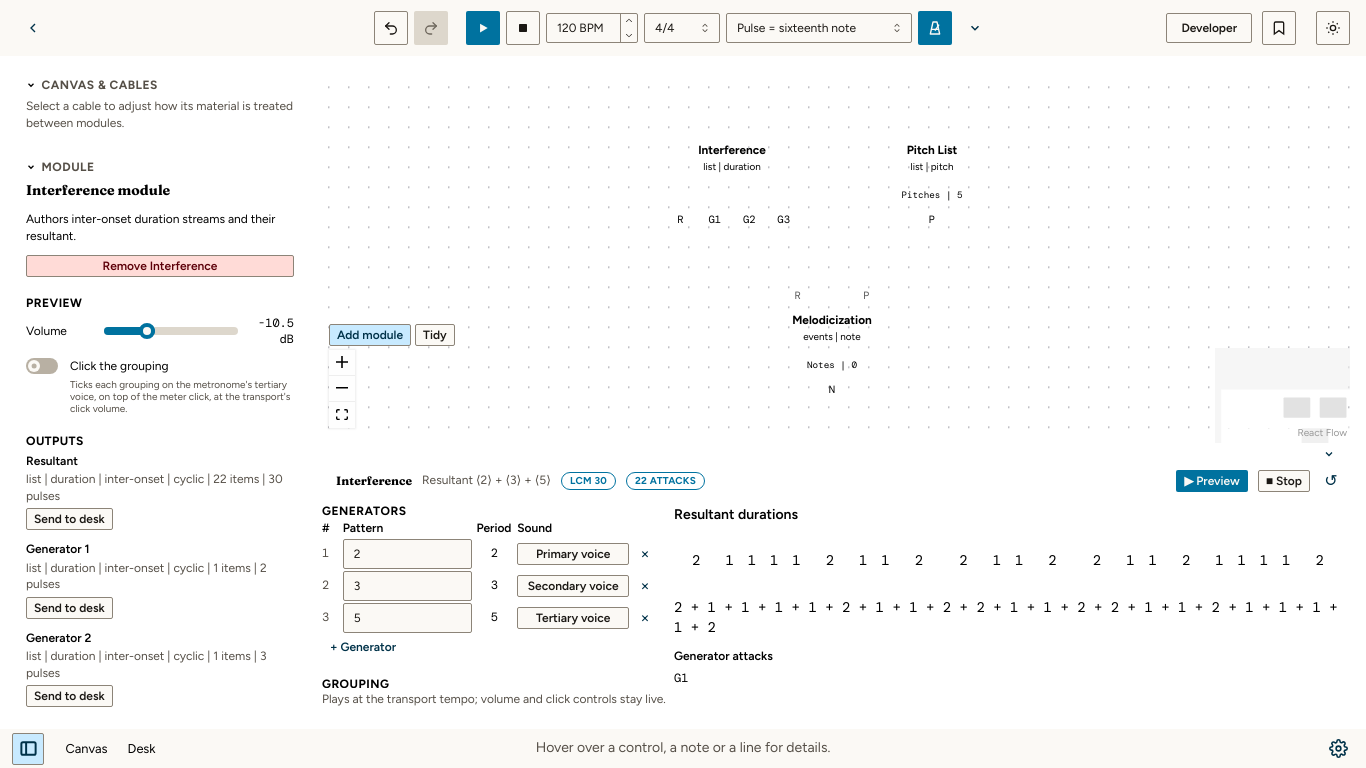
Test: CompositionWorkbenchPage › uses the patch canvas as the composition navigator
The image size is (1366, 768).
Expected: the button "Note events" is not shown
Expected: the button "Melodicization events | note Notes | 0" is shown, top-left (758, 304), bottom-right (906, 381)
Click the button "Pitch List list | pitch Pitches | 5": coordinates (932, 172) top-left (858, 134), bottom-right (1006, 211)
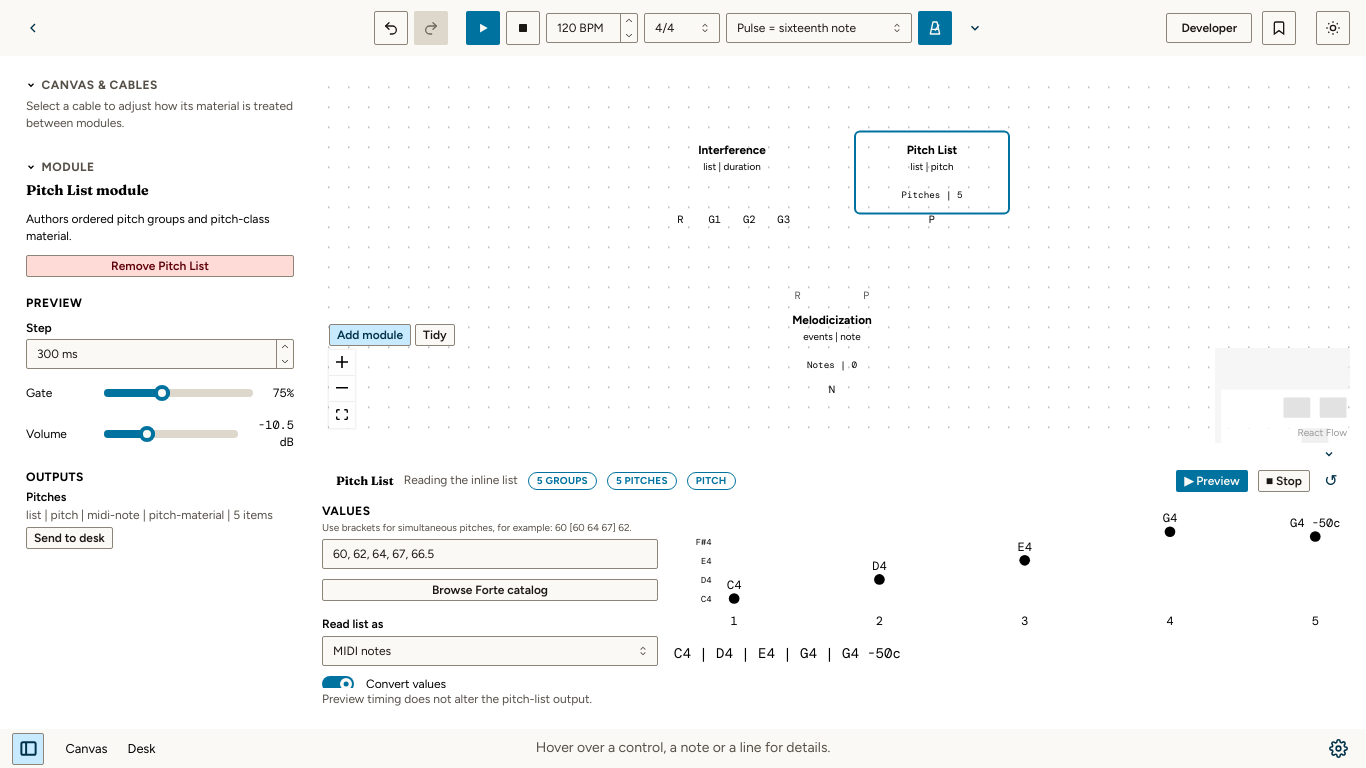
Expected: the heading "Pitch List" is shown, top-left (336, 473), bottom-right (394, 489)
Click the button "Melodicization events | note Notes | 0": coordinates (832, 342) top-left (758, 304), bottom-right (906, 381)
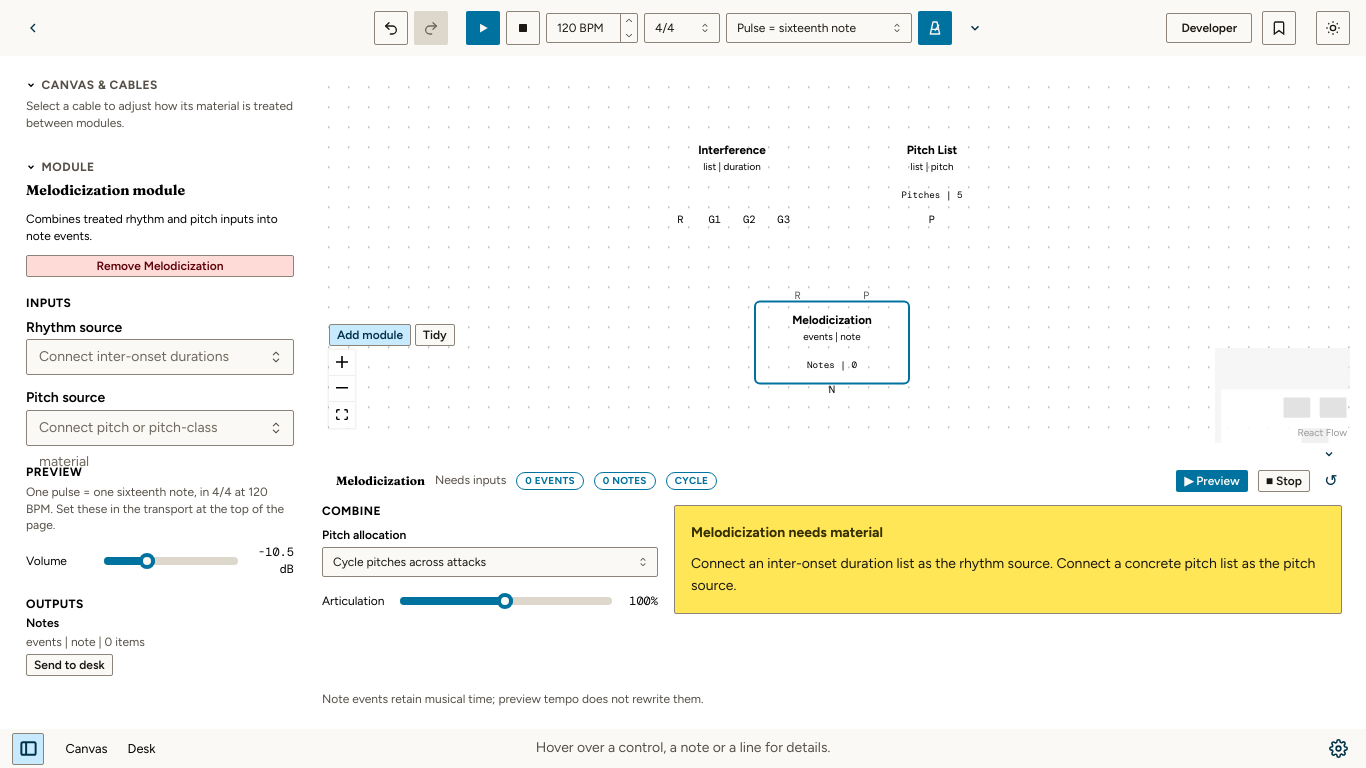
Expected: the heading "Melodicization" is shown, top-left (336, 473), bottom-right (425, 489)
Click the button "Interference list | duration": coordinates (732, 172) top-left (658, 134), bottom-right (806, 211)
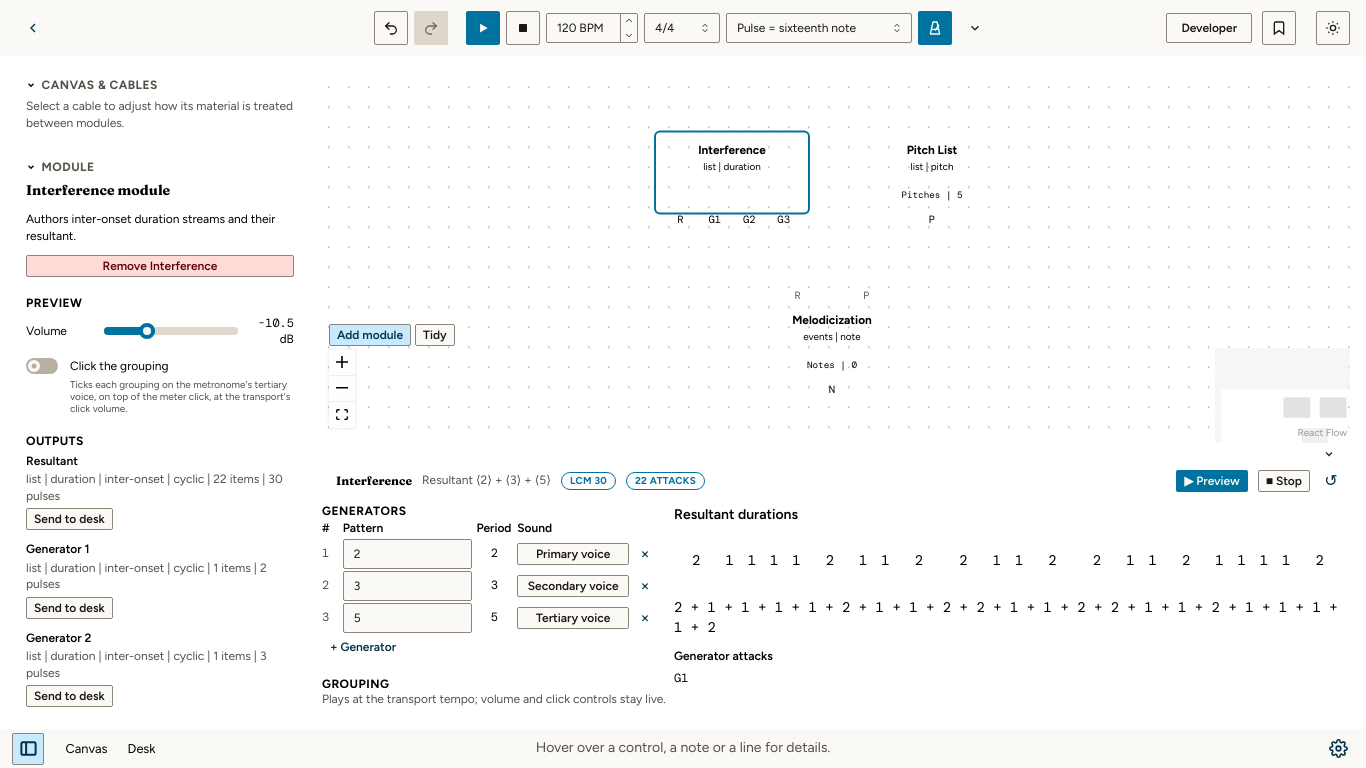
Expected: the heading "Interference" is shown, top-left (336, 473), bottom-right (412, 489)
